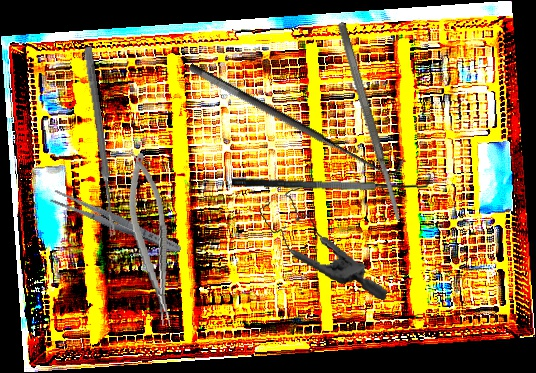Dressing Forceps: (49, 187, 184, 258)
Hook Surgical: (186, 46, 405, 187)
Needle Holder: (121, 149, 180, 329)
Spatula Surgical: (336, 21, 404, 224), (231, 160, 432, 199)
Speculum: (248, 182, 401, 301)
Surgical Spoon: (82, 46, 119, 237)
